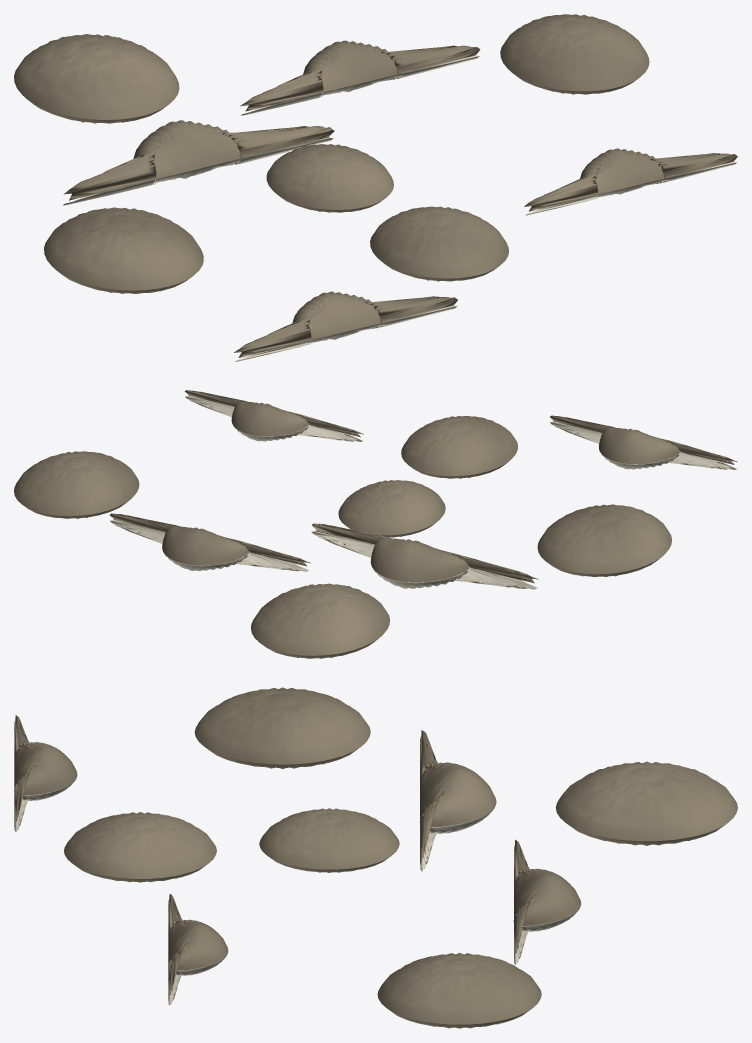
File: brachiopod-bed.lod1.glb
The picture shows the model from 3 angles, top to bottom: view 1: azimuth 30°, elevation 25°; view 2: azimuth 150°, elevation 25°; view 3: azimuth 270°, elevation 25°; orthographic projection. The views are drawn at different scales.
Parts seen in each view (by area): view 1: brachiopod-bed; view 2: brachiopod-bed; view 3: brachiopod-bed.
Boxes of the visible parts, <box> form: brachiopod-bed: <box>14,14,737,361</box>; brachiopod-bed: <box>14,390,737,658</box>; brachiopod-bed: <box>14,687,737,1028</box>.
Size of the model in its own units: 0.1486 by 0.012 by 0.1399.
